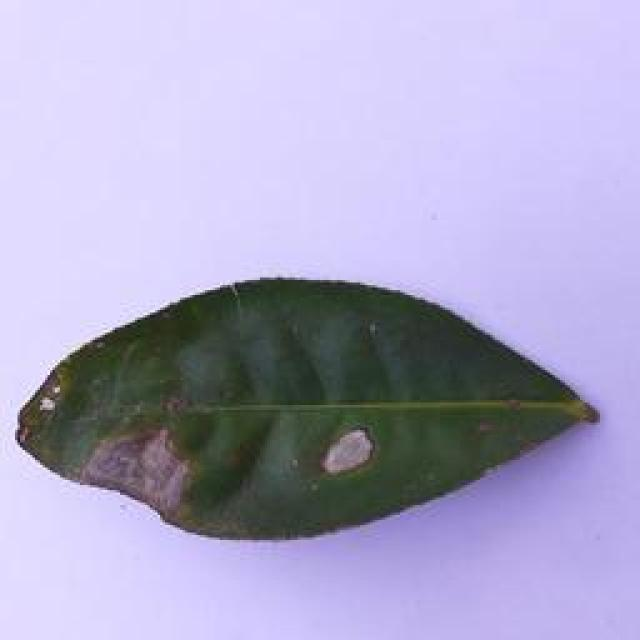Gray Blight: (14, 273, 602, 542)
